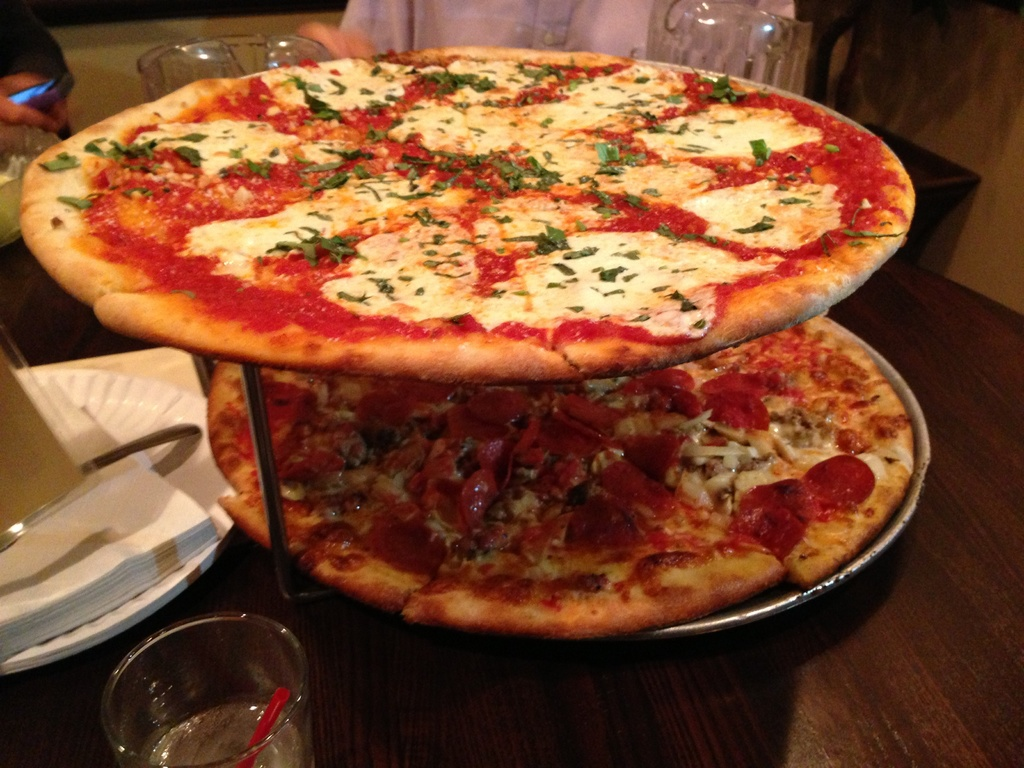person: (295, 0, 664, 67)
